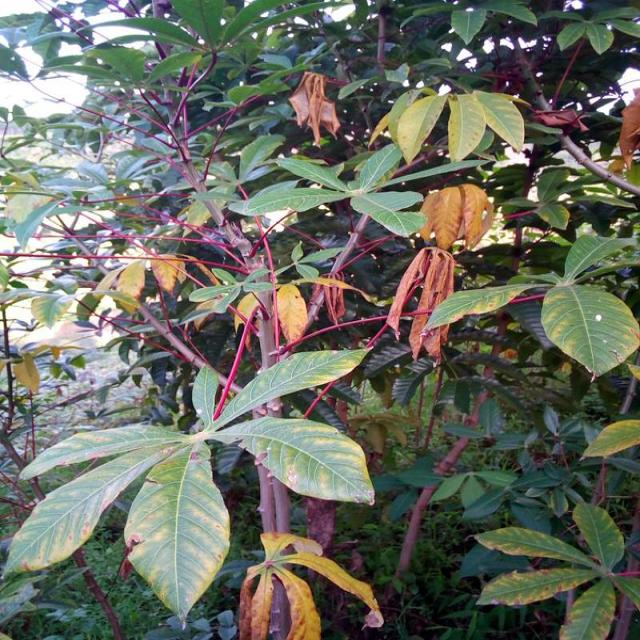cassava leaf: (122, 439, 230, 626), (211, 414, 375, 505), (540, 280, 638, 381)
